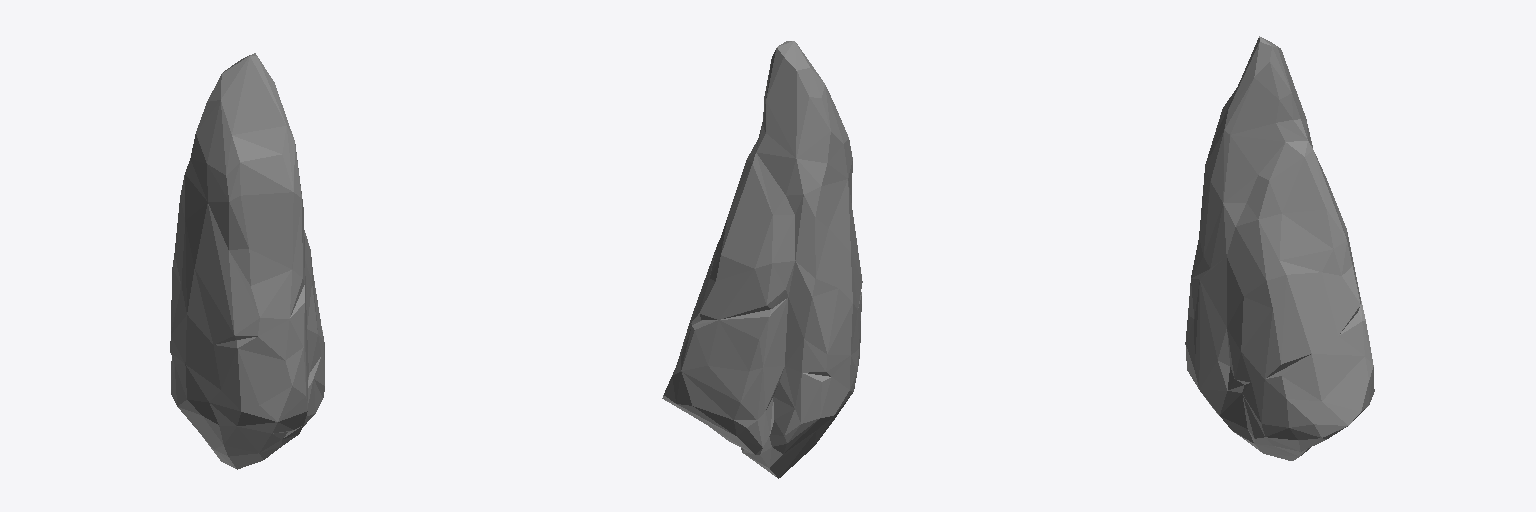
Rendered from RockSpike.obj.
3 renders of one model, left to right at view 1: azimuth 30°, elevation 25°; view 2: azimuth 150°, elevation 25°; view 3: azimuth 270°, elevation 25°, orthographic.
Visible parts, largest first — view 1: RockSpike_Low; view 2: RockSpike_Low; view 3: RockSpike_Low.
Boxes of the visible parts, box(x1,y1,x2,y2) form: RockSpike_Low: box(170, 53, 324, 469); RockSpike_Low: box(662, 41, 862, 478); RockSpike_Low: box(1185, 36, 1374, 460).
Size of the model in its own units: 2.16 by 5.68 by 2.3.